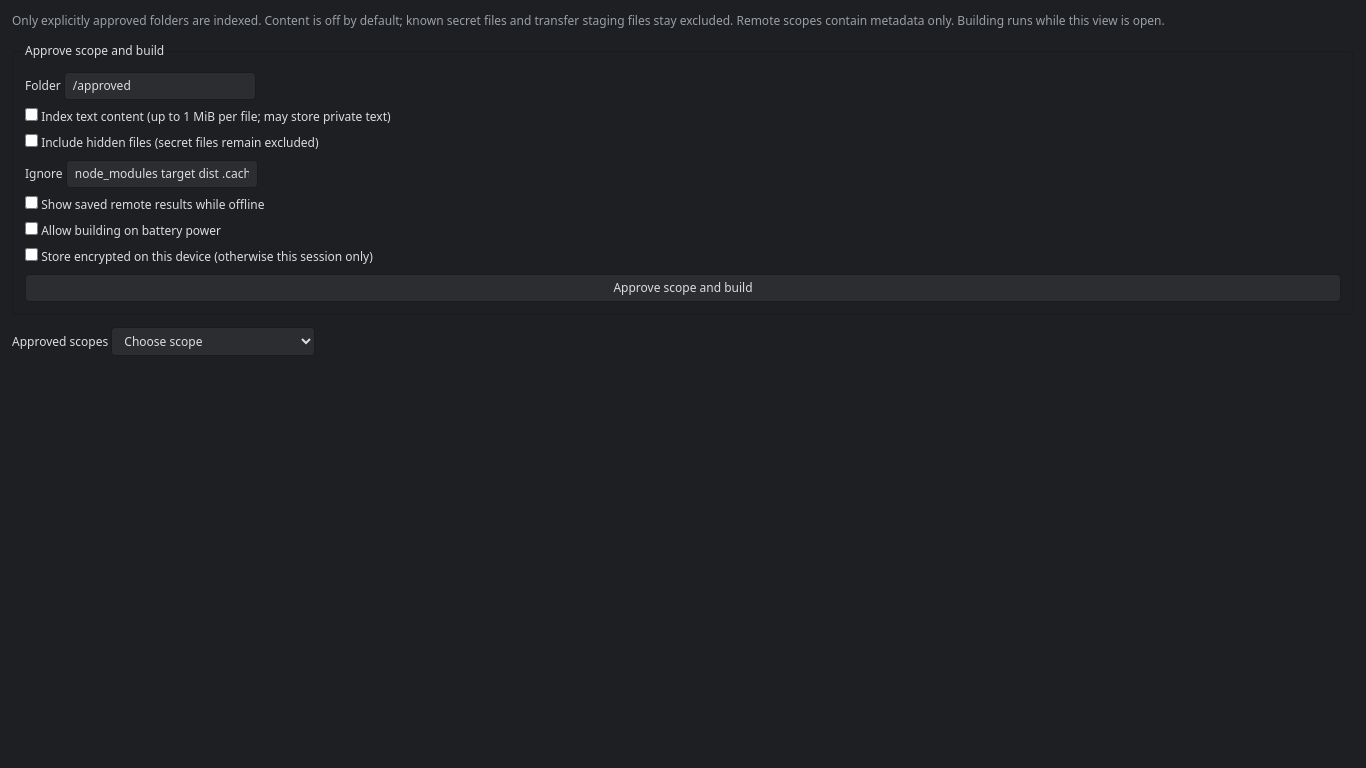
Test: refuses a query response if scope validation reports a lock before publication
Select "/approved (0-abcd) — Paused" in the dropdown labelled "Approved scopes" at (213, 342), box [111,327,315,356]
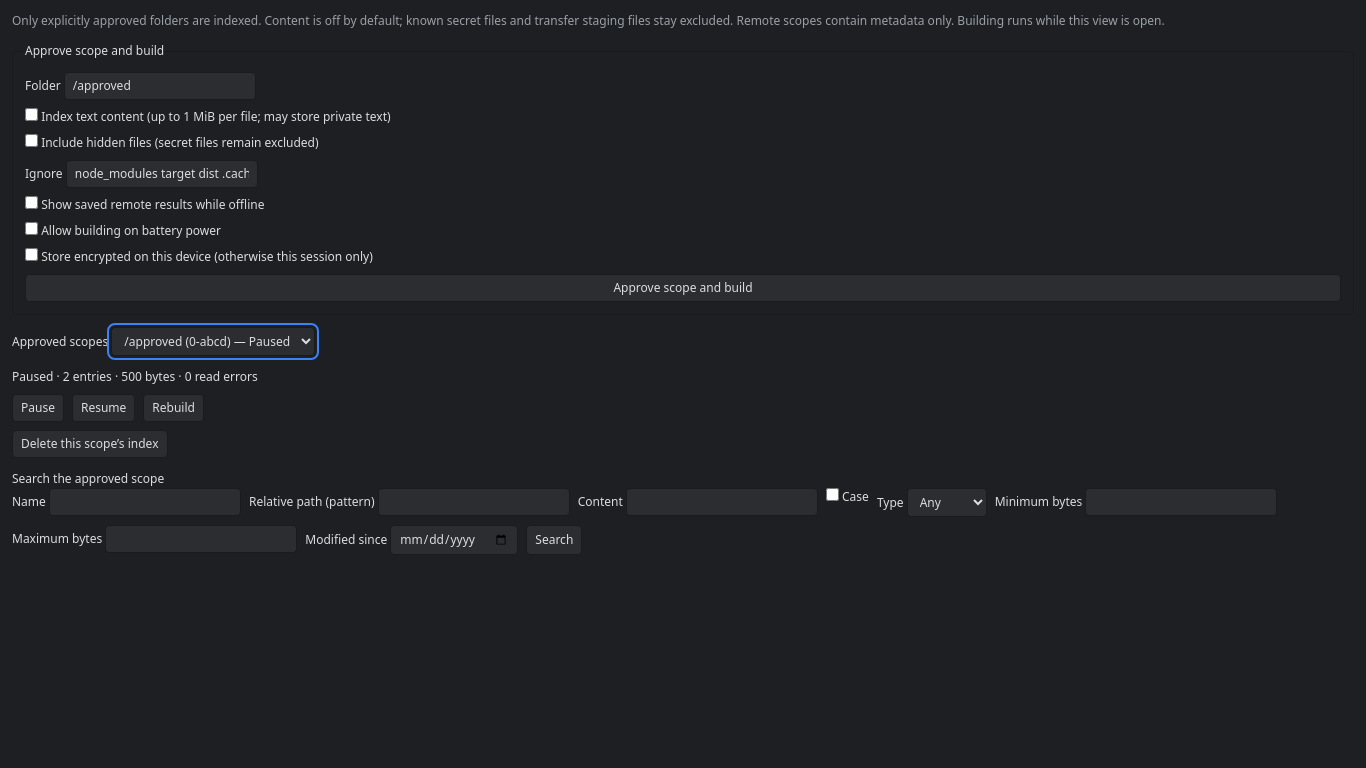
Result: the button "Search" is enabled
Click the button "Search" at (554, 540), box [526,525,582,555]
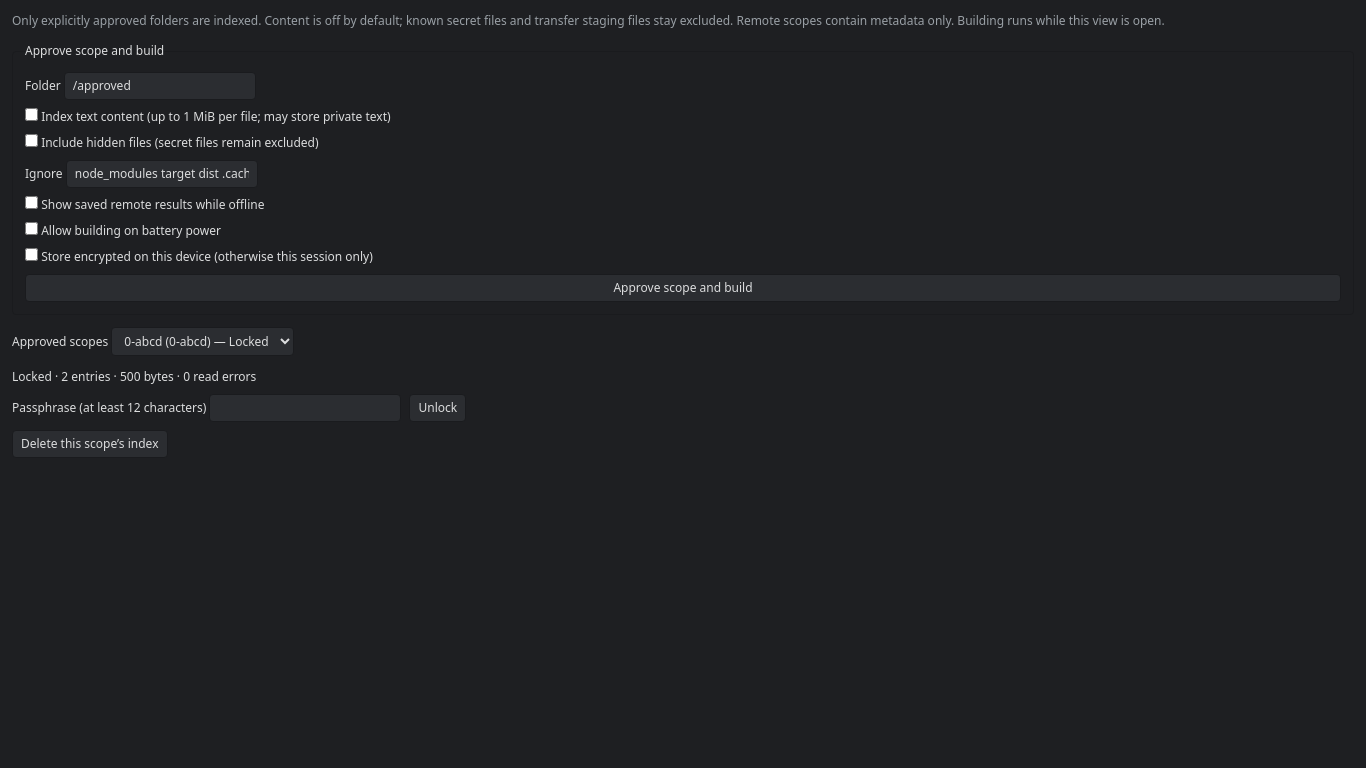
Result: the button "Unlock" is shown at [410,394,466,422]
